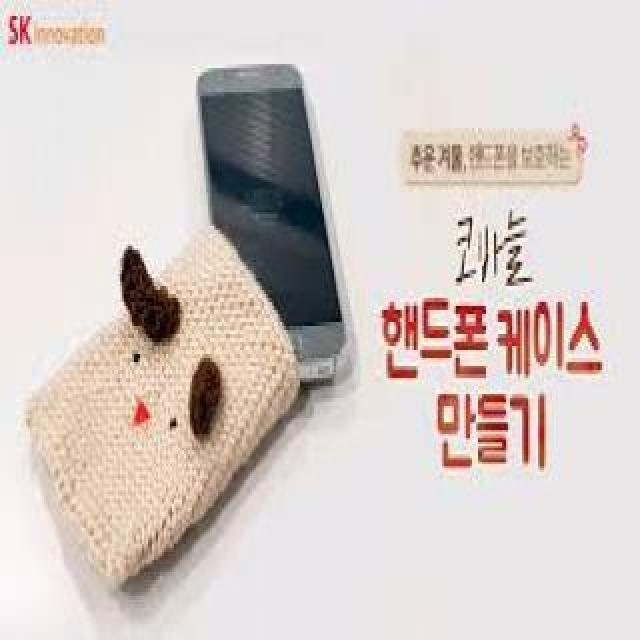smart phone: (188, 33, 370, 380)
